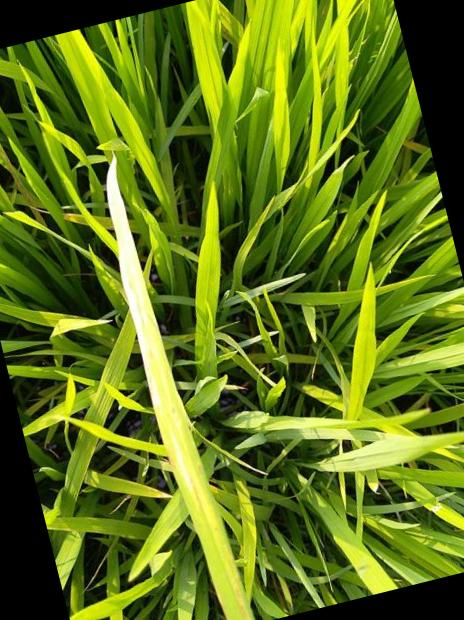Leaf Blight: (107, 160, 202, 500)
